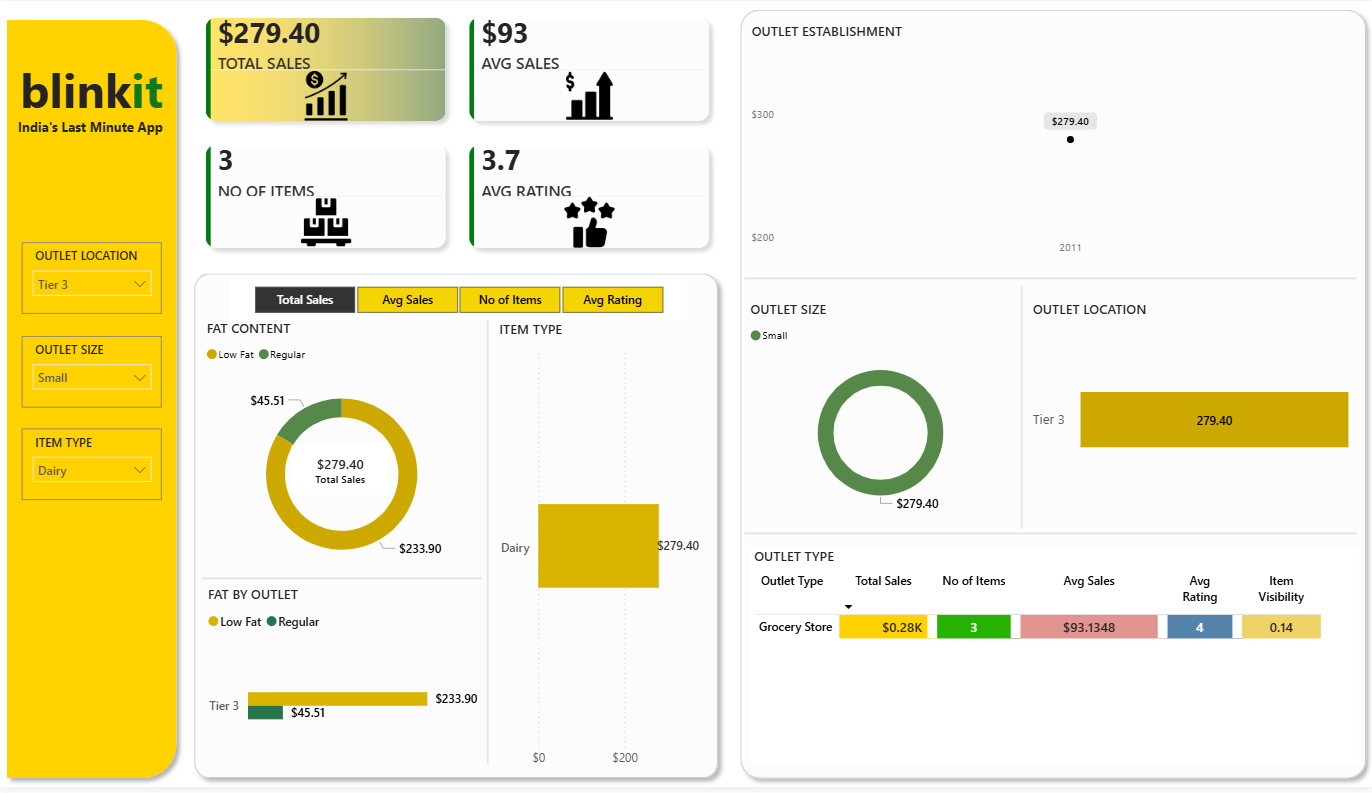

Layout of this report page (visuals, bound fields, positions):
{"tool":"powerbi","page":{"name":"Page 1","canvas":[1400,800],"ordinal":0},"visuals":[{"type":"shape","box":[0,10.5,190.6,789.5],"z":0},{"type":"textbox","box":[8.9,52.1,173,81.4],"z":1000},{"type":"textbox","box":[15.3,114.5,160.2,30.5],"z":2000},{"type":"cardVisual","fields":{"Data":["BlinkIT Grocery Data.Total Sales","BlinkIT Grocery Data.Avg Sales","BlinkIT Grocery Data.No of Items","BlinkIT Grocery Data.Avg Rating"]},"box":[194.6,0,546.9,268.3],"z":3000},{"type":"shape","box":[190.6,268.7,550.8,531.3],"z":4000},{"type":"donutChart","title":"FAT CONTENT","fields":{"Y":["BlinkIT Grocery Data.Total Sales"],"Category":["BlinkIT Grocery Data.Item Fat Content"]},"box":[207.1,322.7,285.2,271.7],"z":5000},{"type":"slicer","fields":{"Values":["Metrics.Metrics"]},"box":[235.6,283.7,465.3,40.5],"z":6000},{"type":"cardVisual","fields":{"Data":["BlinkIT Grocery Data.Total Sales"]},"box":[294.2,447.3,109.6,60],"z":7000},{"type":"clusteredBarChart","title":"FAT BY OUTLET","fields":{"Y":["BlinkIT Grocery Data.Total Sales"],"Category":["BlinkIT Grocery Data.Outlet Location Type"],"Series":["BlinkIT Grocery Data.Item Fat Content"]},"box":[208.4,594.1,284.4,194.6],"z":8000},{"type":"shape","box":[207.1,579.3,285.2,15],"z":9000},{"type":"shape","box":[492.3,324.2,12,451.8],"z":10000},{"type":"barChart","title":"ITEM TYPE","fields":{"Y":["BlinkIT Grocery Data.Total Sales"],"Category":["BlinkIT Grocery Data.Item Type"]},"box":[504.3,324.2,226.6,463.8],"z":11000},{"type":"shape","box":[745.9,0,654.4,800],"z":12000},{"type":"lineChart","title":" OUTLET ESTABLISHMENT","fields":{"Category":["BlinkIT Grocery Data.Outlet Establishment Year"],"Y":["BlinkIT Grocery Data.Total Sales"]},"box":[762.2,21.9,622.9,246.4],"z":13000},{"type":"shape","box":[758.8,275.2,622.9,15],"z":14000},{"type":"donutChart","title":"OUTLET SIZE","fields":{"Y":["BlinkIT Grocery Data.Total Sales"],"Category":["BlinkIT Grocery Data.Outlet Size"]},"box":[761.1,304,275.2,225.7],"z":15000},{"type":"shape","box":[1035.1,290.2,12.7,246.4],"z":16000},{"type":"funnel","title":"OUTLET LOCATION","fields":{"Category":["BlinkIT Grocery Data.Outlet Location Type"],"Y":["Sum(BlinkIT Grocery Data.Sales)"]},"box":[1047.8,304,336.2,225.7],"z":17000},{"type":"shape","box":[758.8,534.3,622.9,15],"z":18000},{"type":"pivotTable","title":"OUTLET TYPE","fields":{"Rows":["BlinkIT Grocery Data.Outlet Type"],"Values":["BlinkIT Grocery Data.Total Sales","BlinkIT Grocery Data.No of Items","BlinkIT Grocery Data.Avg Sales","BlinkIT Grocery Data.Avg Rating","Avg(BlinkIT Grocery Data.Item Visibility)"]},"box":[764.5,556.1,620.6,219.9],"z":19000},{"type":"slicer","fields":{"Values":["BlinkIT Grocery Data.Outlet Location Type"]},"box":[24.2,245.5,142.4,72.5],"z":20000},{"type":"slicer","fields":{"Values":["BlinkIT Grocery Data.Outlet Size"]},"box":[24.2,340.8,142.4,72.5],"z":21000},{"type":"slicer","fields":{"Values":["BlinkIT Grocery Data.Item Type"]},"box":[24.2,435,142.4,72.5],"z":22000}]}

Visuals, with their boxes in screenshot pixels (x1, y1, x2, y2), scaled from the page's 1400x800 canvas onto the 1372x793 screenshot:
shape: [0,10,187,792]
textbox: [9,52,178,132]
textbox: [15,113,172,144]
cardVisual - BlinkIT Grocery Data.Total Sales x BlinkIT Grocery Data.Avg Sales: [191,0,727,266]
shape: [187,266,727,792]
"FAT CONTENT" donutChart: [203,320,482,589]
slicer - Metrics.Metrics: [231,281,687,321]
cardVisual - BlinkIT Grocery Data.Total Sales: [288,443,396,503]
"FAT BY OUTLET" clusteredBarChart: [204,589,483,782]
shape: [203,574,482,589]
shape: [482,321,494,769]
"ITEM TYPE" barChart: [494,321,716,781]
shape: [731,0,1371,792]
" OUTLET ESTABLISHMENT" lineChart: [747,22,1357,266]
shape: [744,273,1354,288]
"OUTLET SIZE" donutChart: [746,301,1016,525]
shape: [1014,288,1027,532]
"OUTLET LOCATION" funnel: [1027,301,1356,525]
shape: [744,530,1354,544]
"OUTLET TYPE" pivotTable: [749,551,1357,769]
slicer - BlinkIT Grocery Data.Outlet Location Type: [24,243,163,315]
slicer - BlinkIT Grocery Data.Outlet Size: [24,338,163,410]
slicer - BlinkIT Grocery Data.Item Type: [24,431,163,503]
